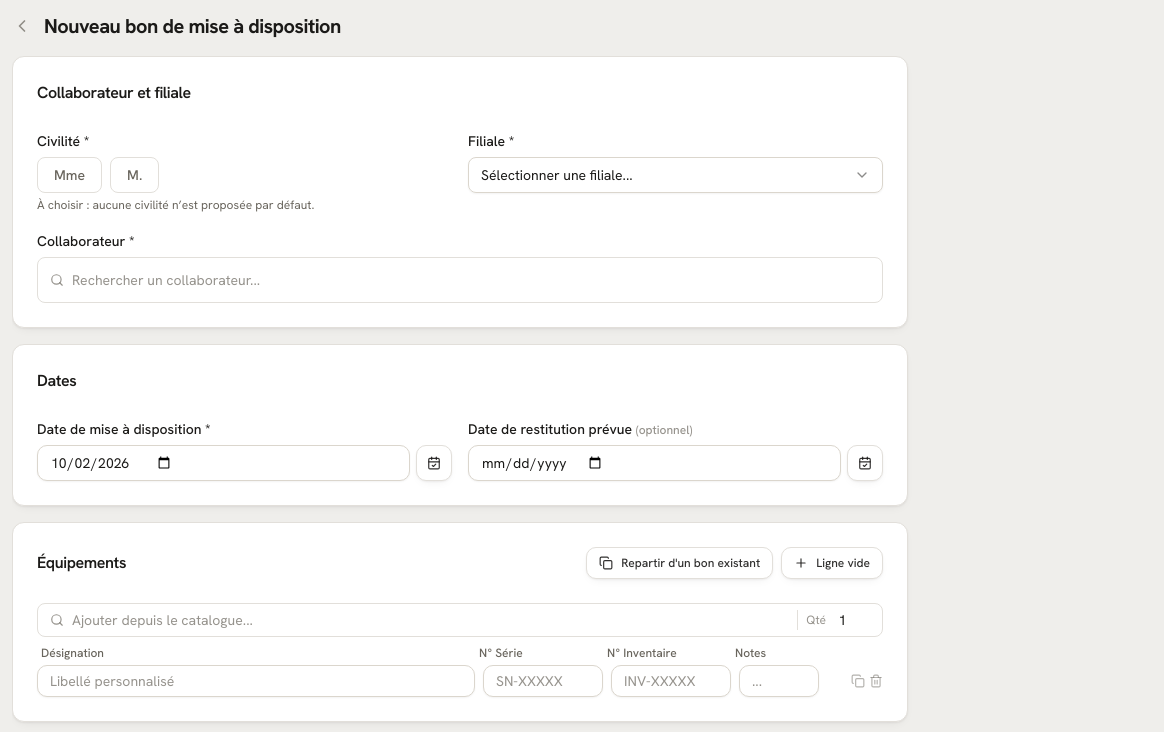
Scenario: BonCreatePage — civilité sans valeur par défaut (R-002) › la civilité retenue sur le compte est proposée et signalée
Type "Léa" into the dropdown with placeholder "Rechercher un collaborateur..." at (471, 280), box [72,264,870,296]
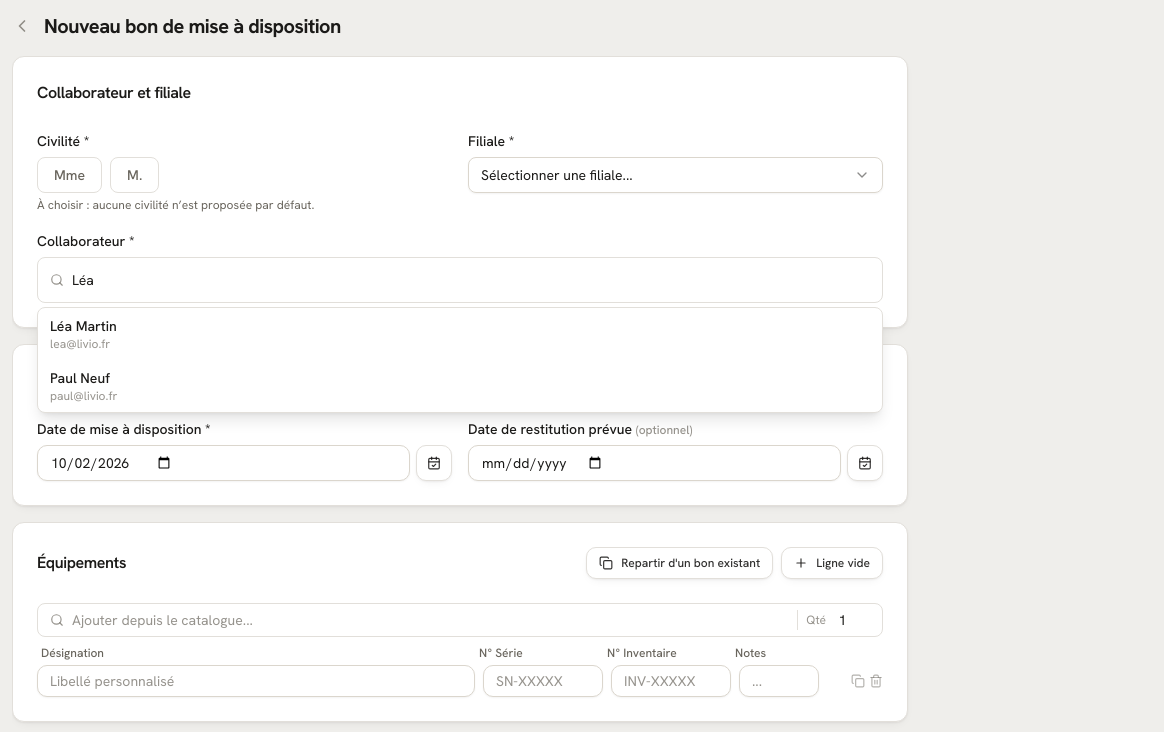
Click the text "Léa Martin" at (83, 326), box [50,316,117,336]
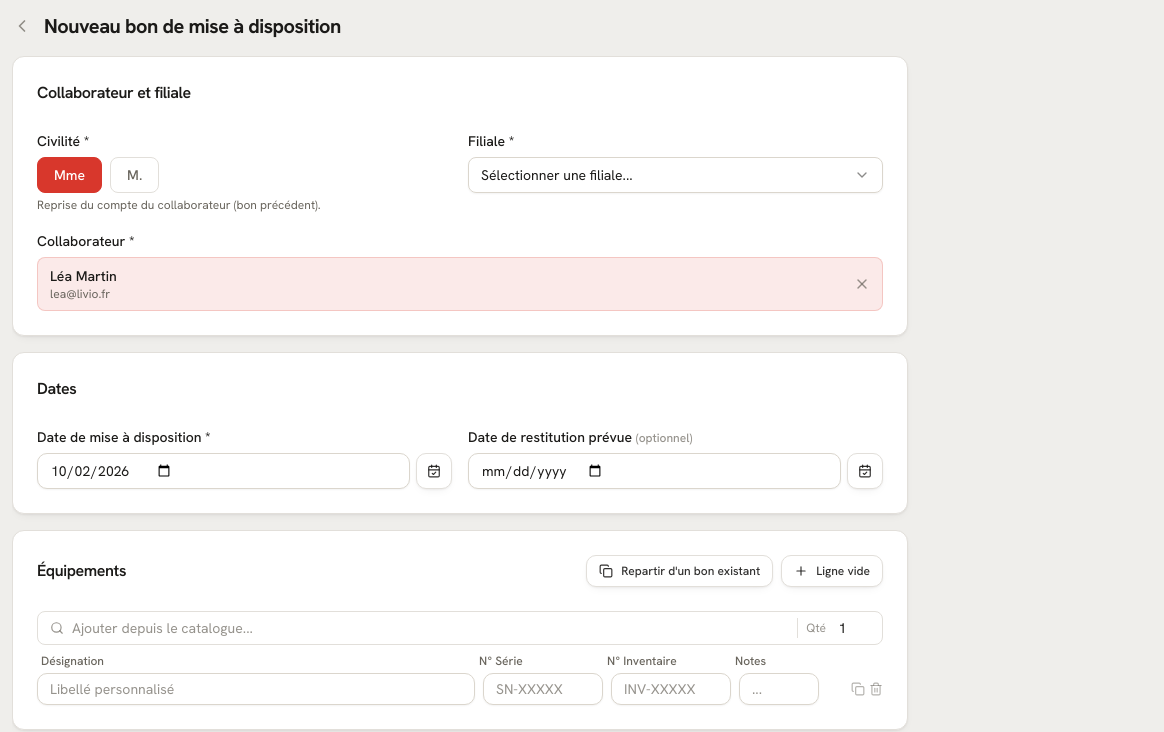
Now the text "Reprise du compte du collaborateur (bon précédent)." is shown, box [37,197,321,213]
